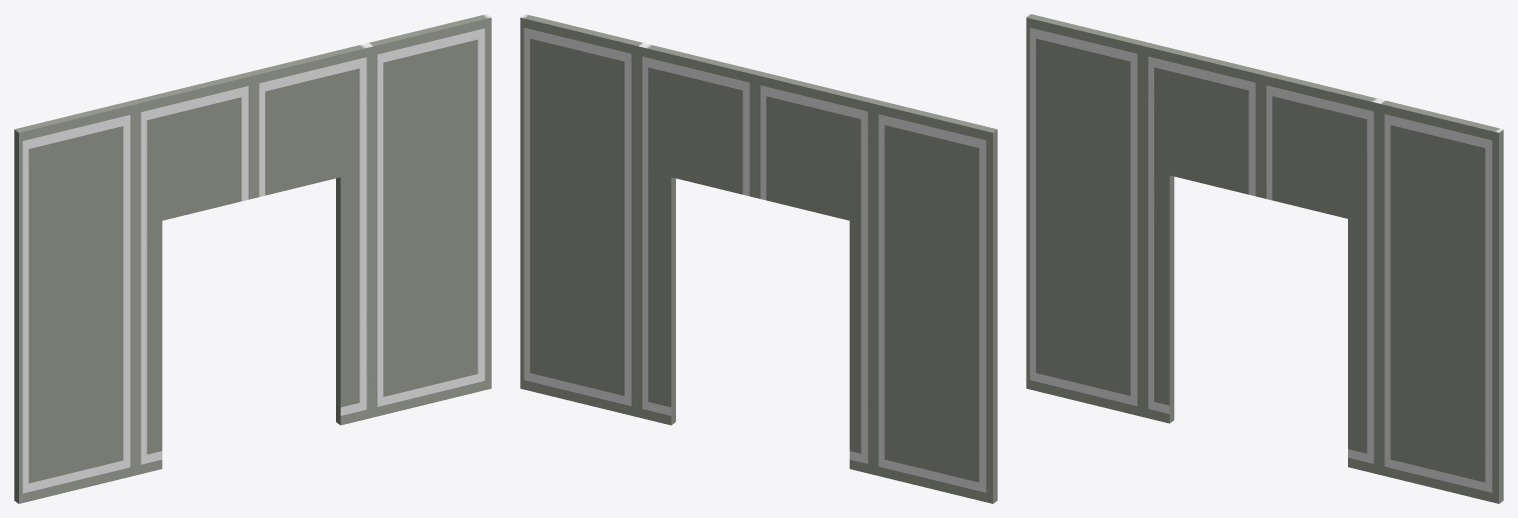
Rendered from Wall_Green_Door.fbx.
The picture shows the model from 3 angles, left to right: view 1: azimuth 30°, elevation 25°; view 2: azimuth 150°, elevation 25°; view 3: azimuth 330°, elevation 25°; orthographic projection.
Visible parts, largest first — view 1: Wall_Green_Door; view 2: Wall_Green_Door; view 3: Wall_Green_Door.
Boxes of the visible parts, bbox=[...] form: Wall_Green_Door: bbox=[14, 14, 491, 503]; Wall_Green_Door: bbox=[520, 14, 997, 503]; Wall_Green_Door: bbox=[1026, 14, 1503, 503].
Bounding box in the file's own units: 400 × 300 × 7.
